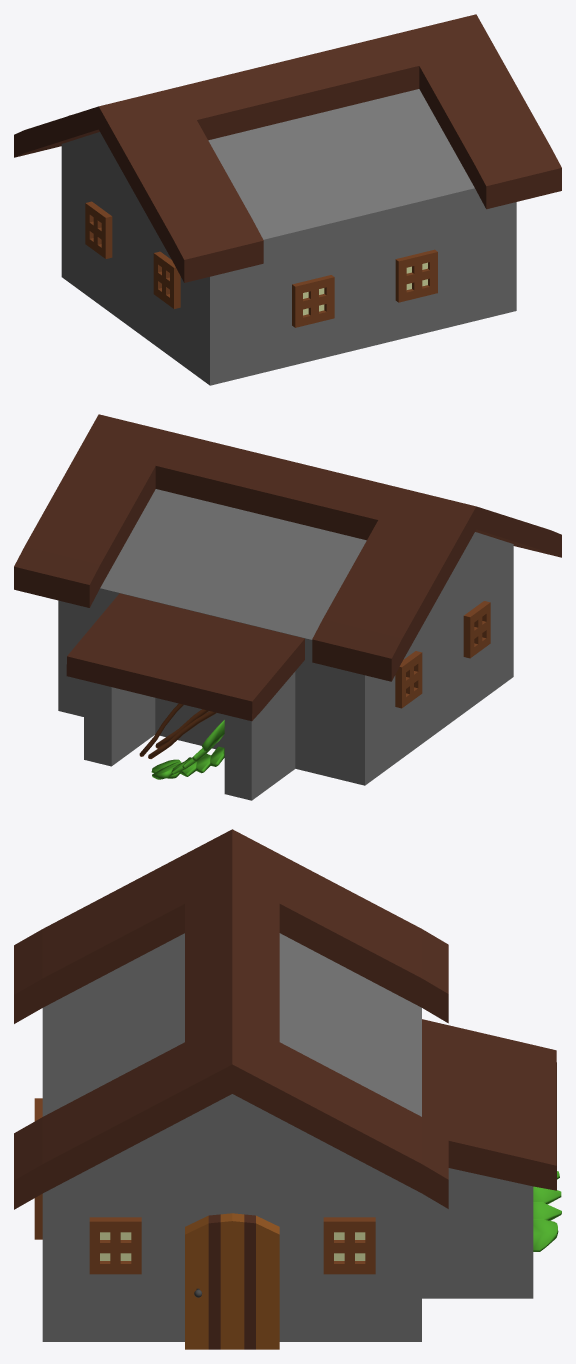
Rendered from house.fbx.
3 renders of one model, top to bottom at view 1: azimuth 30°, elevation 25°; view 2: azimuth 150°, elevation 25°; view 3: azimuth 270°, elevation 25°, orthographic. The views are drawn at different scales.
Visible parts, largest first — view 1: 3rd house; view 2: 3rd house; view 3: 3rd house.
Boxes of the visible parts, x1=… form: 3rd house: x1=14, y1=14, x2=561, y2=385; 3rd house: x1=14, y1=414, x2=561, y2=800; 3rd house: x1=14, y1=829, x2=561, y2=1349.
Bounding box in the file's own units: 263 × 156 × 259.
